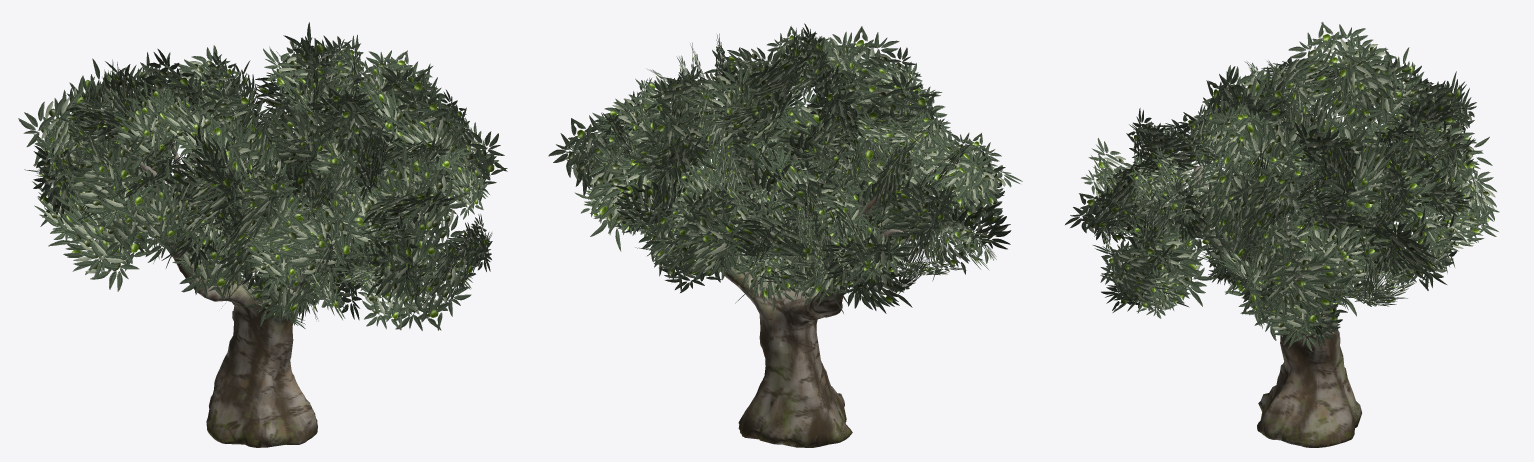
File: oliveTree_LOD_testing2.fbx
The picture shows the model from 3 angles, left to right: view 1: azimuth 30°, elevation 25°; view 2: azimuth 150°, elevation 25°; view 3: azimuth 270°, elevation 25°; orthographic projection. The views are drawn at different scales.
Visible parts, largest first — view 1: OliveTree_LOD0; view 2: OliveTree_LOD0; view 3: OliveTree_LOD0.
Boxes of the visible parts, x1,y1,x2,y2 form: OliveTree_LOD0: [18, 22, 507, 447]; OliveTree_LOD0: [548, 23, 1022, 447]; OliveTree_LOD0: [1065, 22, 1499, 447].
Size of what is drawn, in the model's own units: 13.71 by 10.94 by 12.87.
